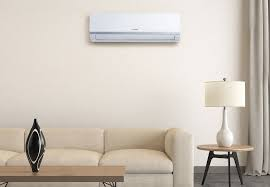ac: (89, 9, 184, 47)
